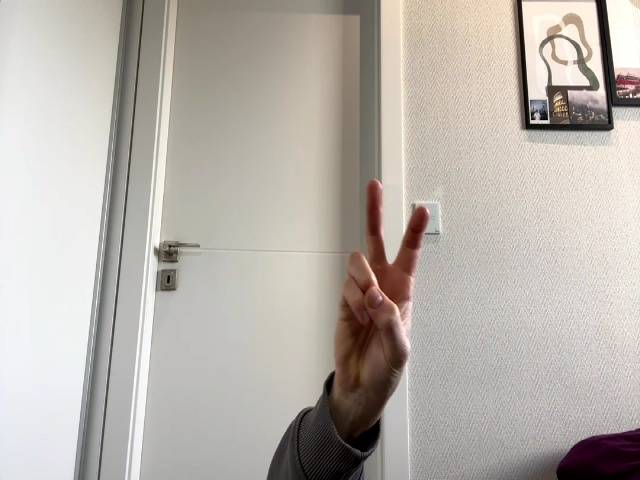H: (332, 178, 429, 397)
